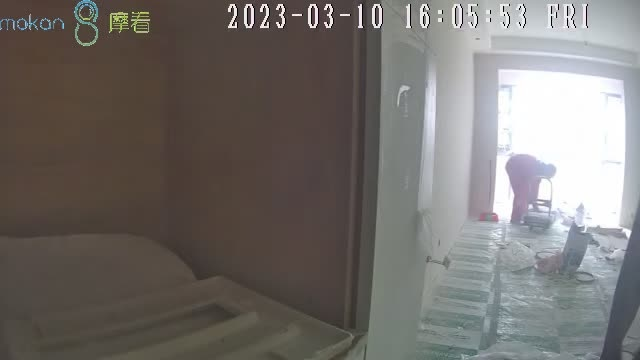people: (505, 153, 559, 223)
window: (498, 70, 623, 225)
